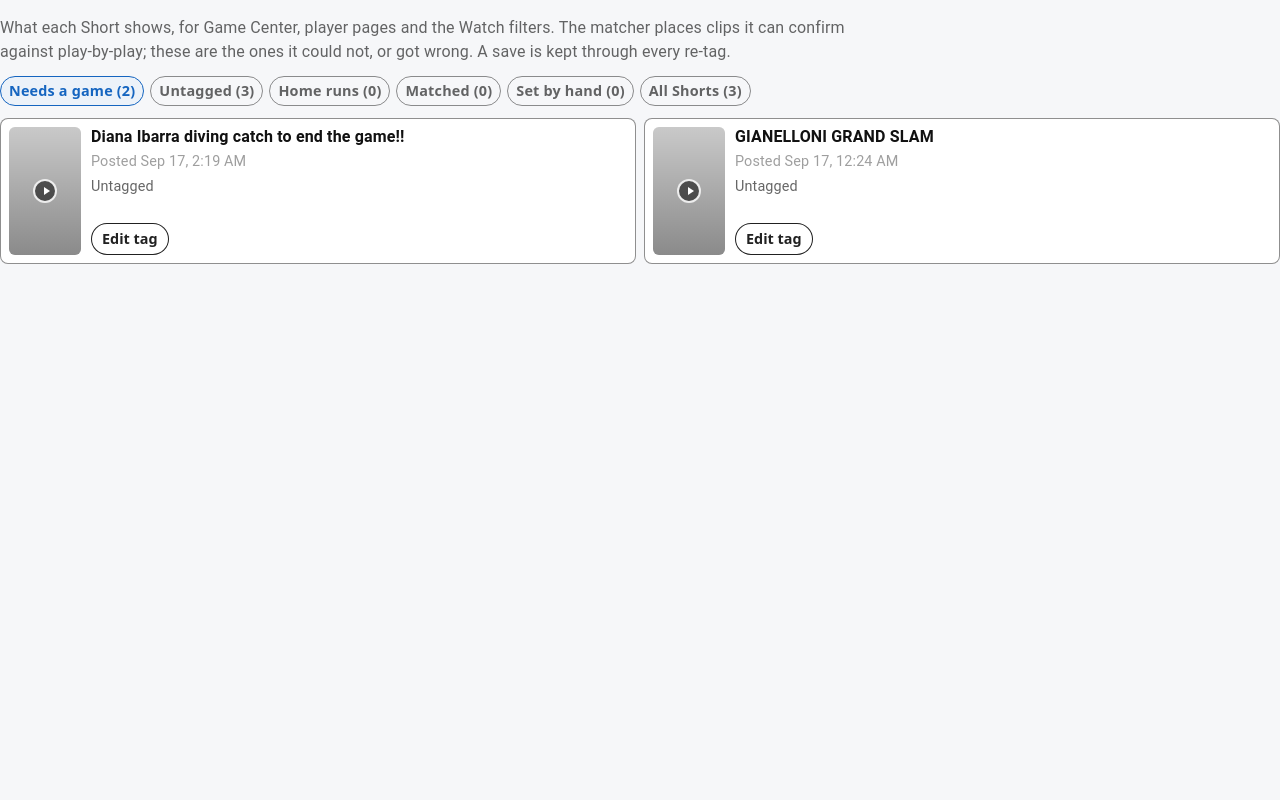
Scenario: AdminClips › opens its dropdowns above the editor, and Escape closes only the menu
Click the button "Edit tag" below "Sep 17, 2:19 AM". click: (130, 239)
box: top-left (91, 223), bottom-right (169, 255)
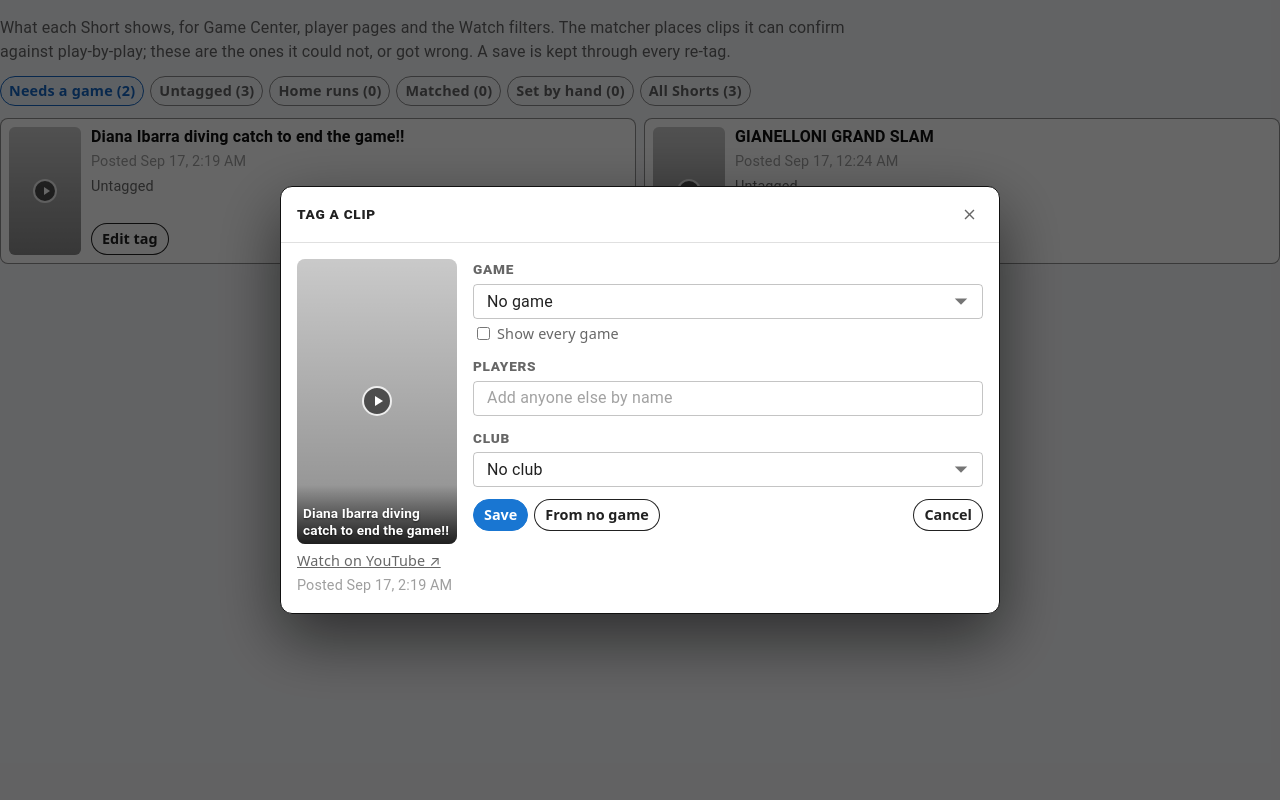
Press the mouse on the dropdown labelled "No game" at (520, 301), box top-left (487, 292), bottom-right (553, 311)
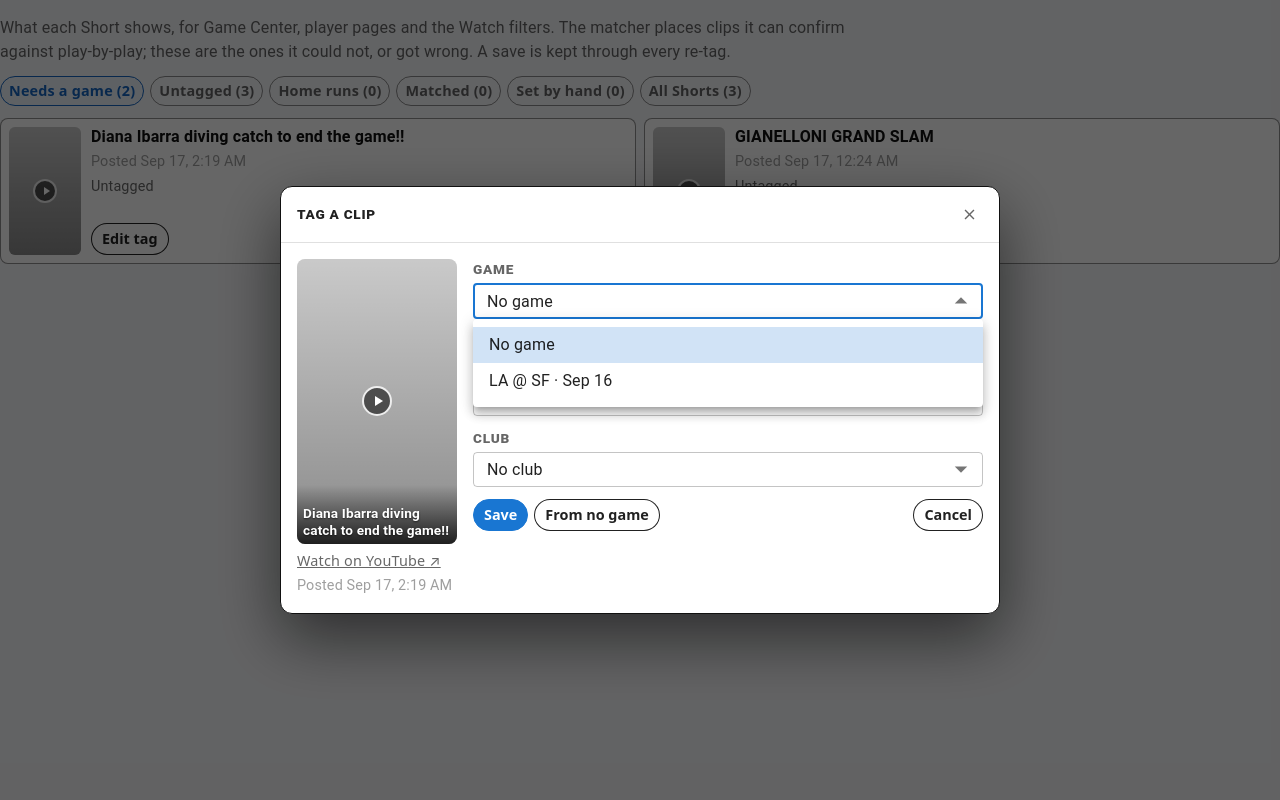
Press Escape in the list, box top-left (473, 319), bottom-right (983, 407)
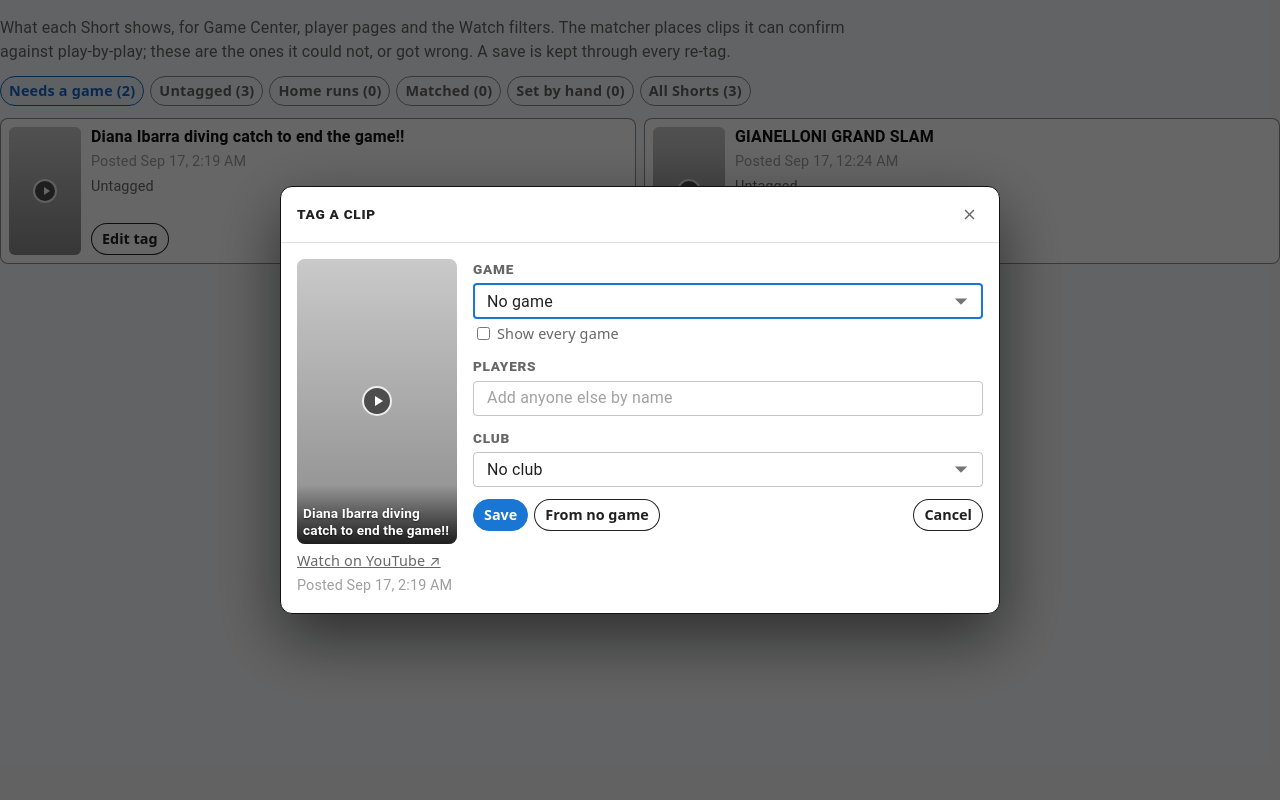
Now the text "Tag a clip" is shown, box top-left (297, 206), bottom-right (376, 222)
Now the list is gone
